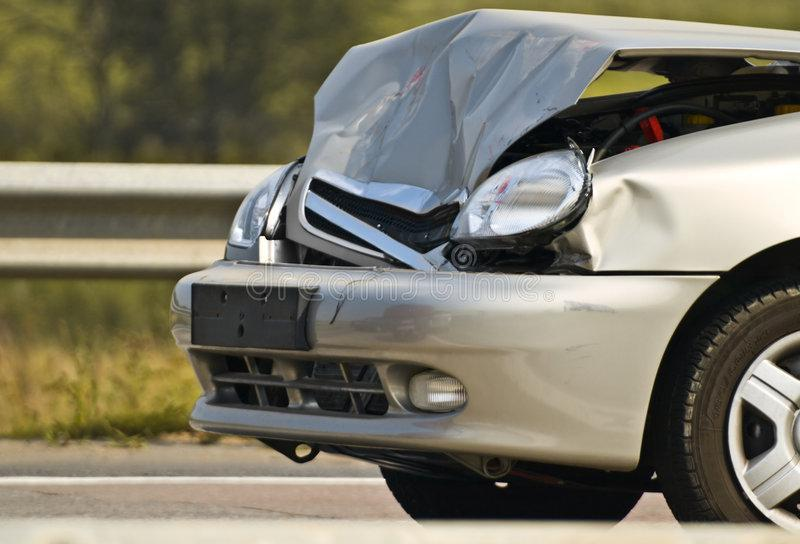bonnet-dent: (274, 7, 590, 261)
fender-dent: (565, 132, 799, 331)
